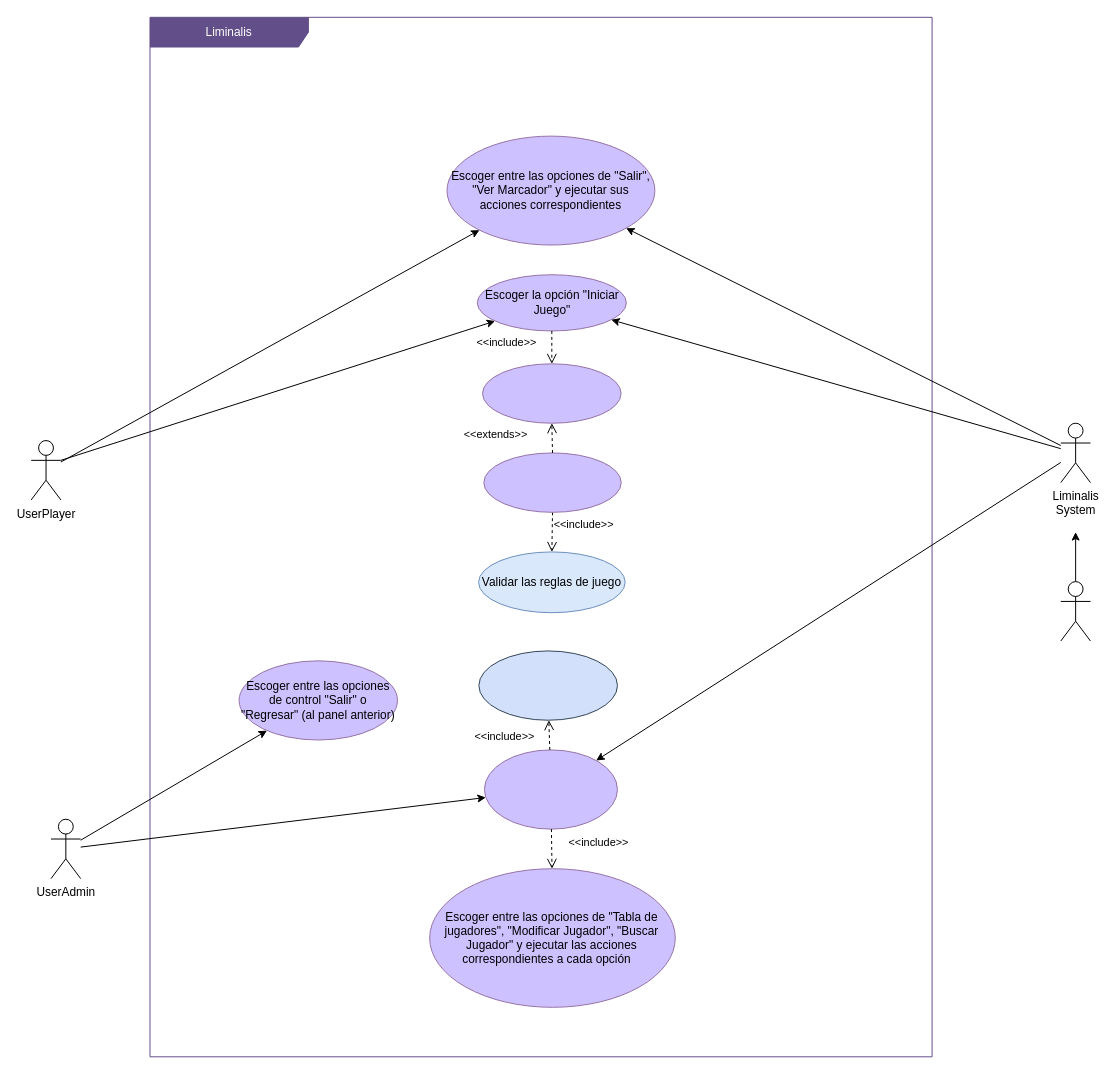
This 1116x1074 diagram has some shape labels left out. Each missing label, with the centre of its shape:
Escoger la opción "Acceso Admin": point 550,789
Escoger la opción "Jugar": point 552,482
Escribir su nombre de usuario: point 551,393
Ingresar usuario, contraseña y validar credenciales: point 547,685
Joystick: point 1075,611
